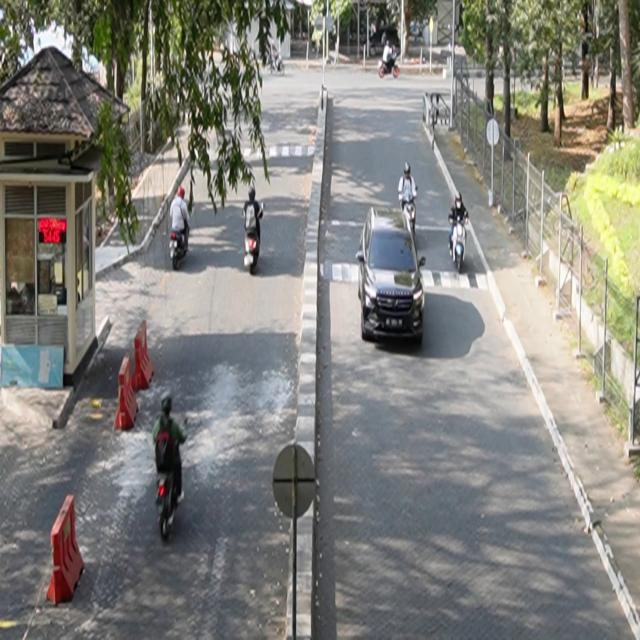car: (356, 207, 427, 345)
